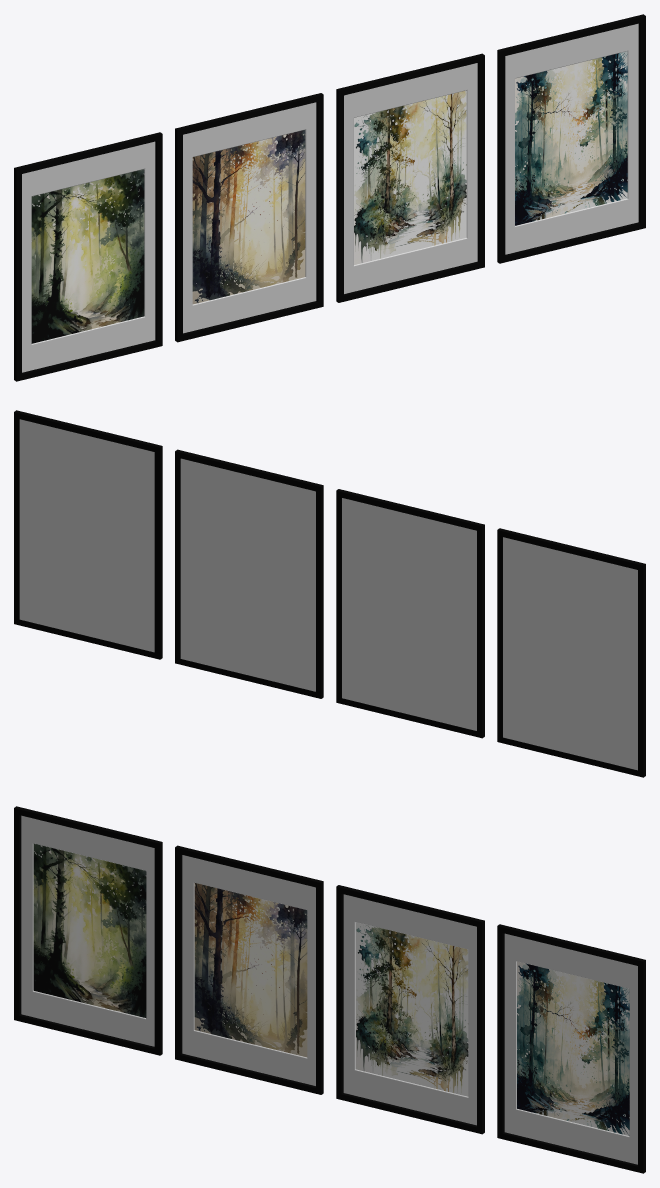
3 views of the same model, one above another, from view 1: azimuth 30°, elevation 25°; view 2: azimuth 150°, elevation 25°; view 3: azimuth 330°, elevation 25° (orthographic).
Parts seen in each view (by area): view 1: Painting1.002_2, Painting1.003_3, Painting1_0, Painting1.001_1; view 2: Painting1.002_2, Painting1.003_3, Painting1_0, Painting1.001_1; view 3: Painting1.002_2, Painting1.003_3, Painting1_0, Painting1.001_1.
Boxes of the visible parts, bbox=[...] form: Painting1.002_2: bbox=[336, 53, 484, 302]; Painting1.003_3: bbox=[175, 93, 323, 342]; Painting1_0: bbox=[14, 132, 162, 381]; Painting1.001_1: bbox=[497, 14, 645, 263]; Painting1.002_2: bbox=[175, 449, 323, 698]; Painting1.003_3: bbox=[336, 489, 484, 738]; Painting1_0: bbox=[497, 528, 645, 777]; Painting1.001_1: bbox=[14, 410, 162, 659]; Painting1.002_2: bbox=[336, 885, 484, 1134]; Painting1.003_3: bbox=[175, 845, 323, 1094]; Painting1_0: bbox=[14, 806, 162, 1055]; Painting1.001_1: bbox=[497, 924, 645, 1173].
Bounding box in the file's own units: 2.24 × 0.72 × 0.015.
3 materials, 1 textured.
